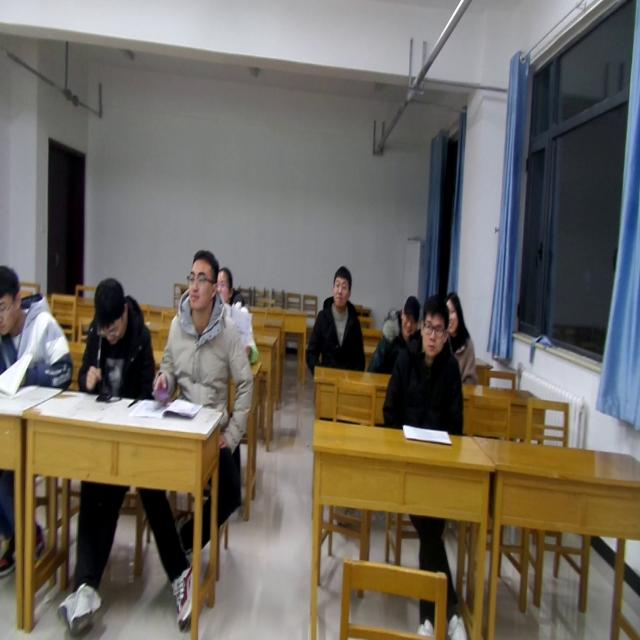bow: (1, 266, 75, 396)
down: (90, 274, 130, 350), (0, 260, 23, 336)
lookup: (184, 246, 222, 313), (420, 286, 448, 361), (328, 262, 354, 314), (394, 294, 422, 337), (443, 286, 465, 333), (212, 261, 234, 301)
sit: (151, 251, 253, 407), (382, 296, 469, 432), (77, 278, 154, 405), (304, 266, 366, 374), (367, 295, 422, 375), (217, 265, 260, 366), (444, 289, 477, 387)
